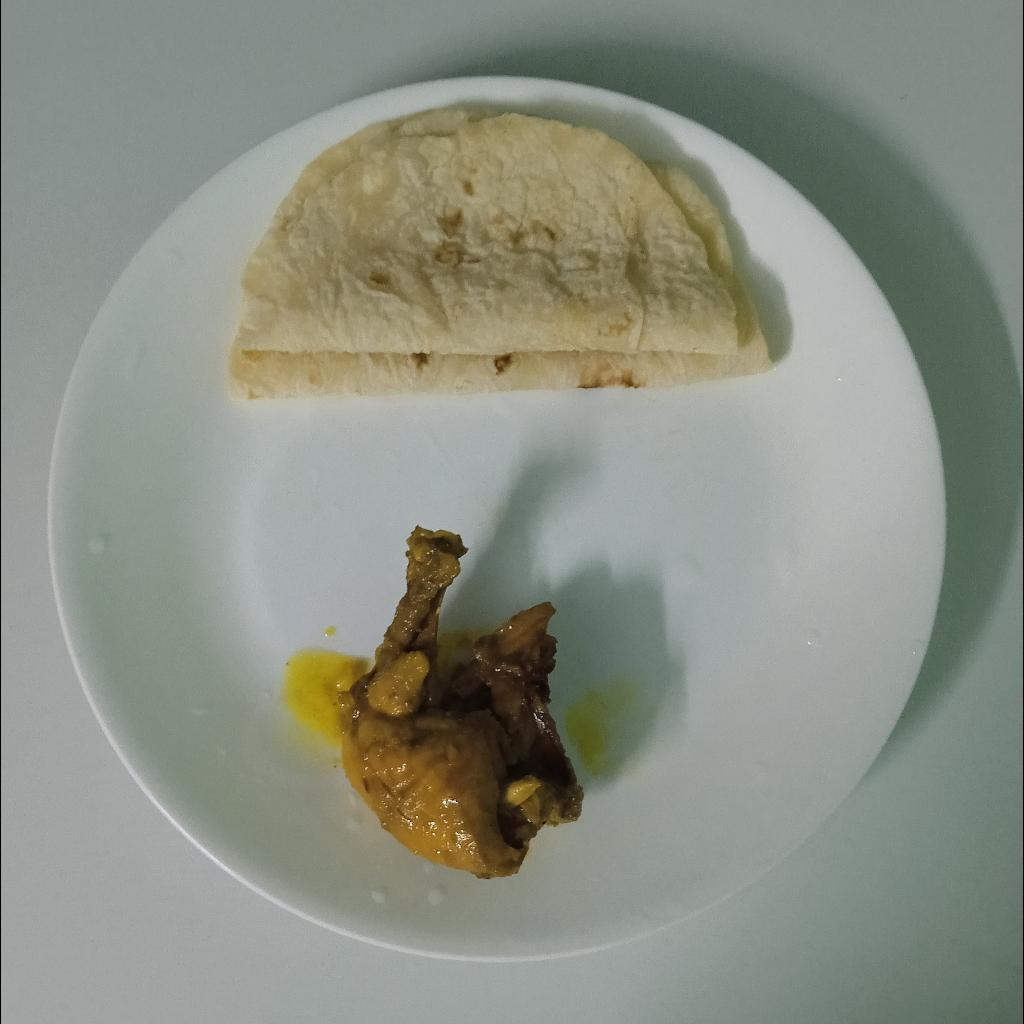chicken: (342, 525, 586, 879)
ruti: (226, 102, 777, 401)
